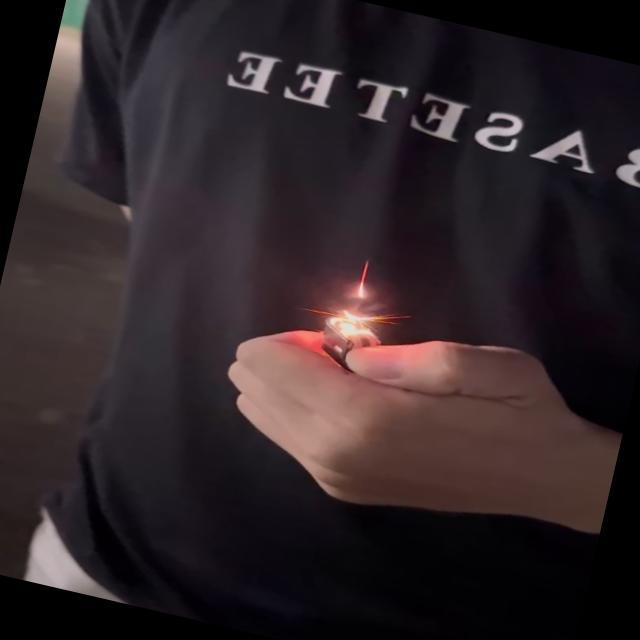Fire: (307, 269, 397, 347)
